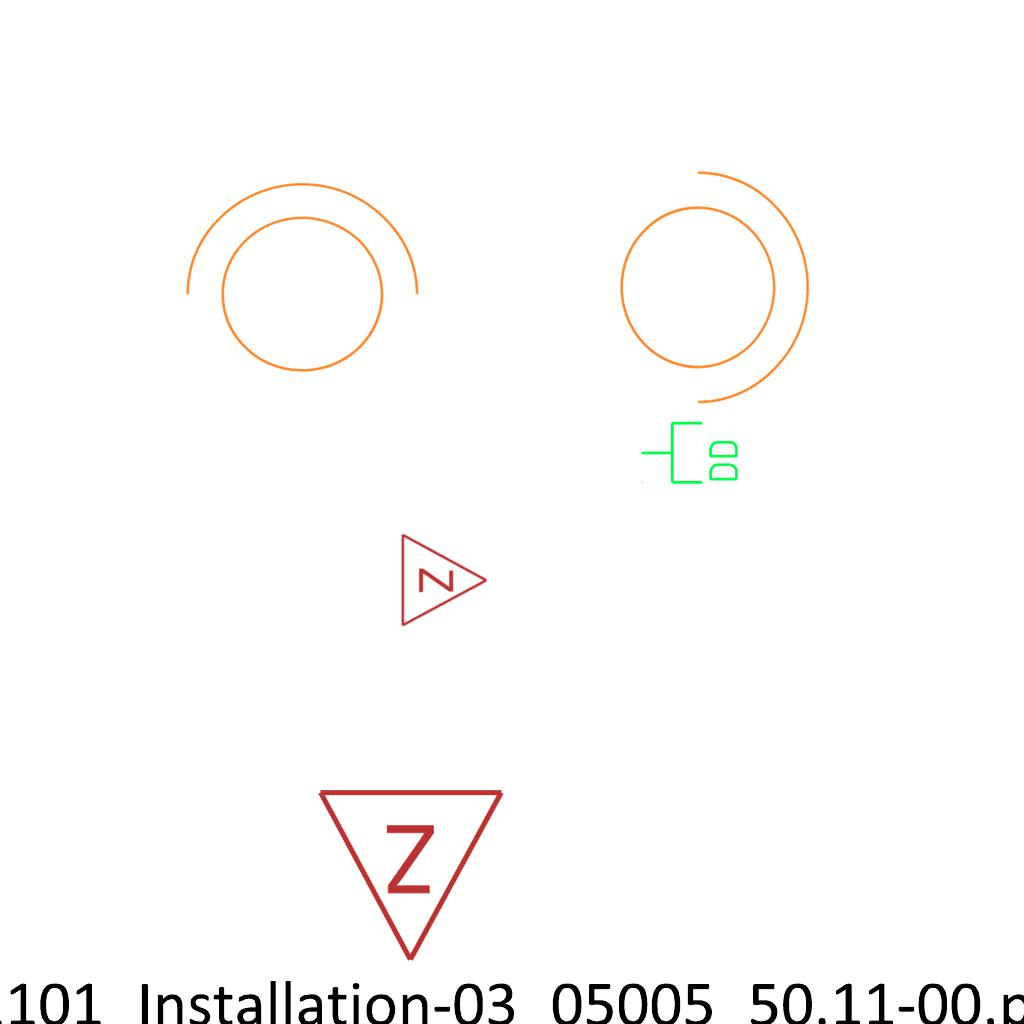Datenanschluss_zweifach: (639, 419, 742, 488)
Scheinwerfer_fuer_Alarmbeleuchtung: (164, 172, 428, 397), (595, 149, 820, 413)
Zimmersignalleuchte: (315, 775, 511, 975), (394, 530, 494, 628)
